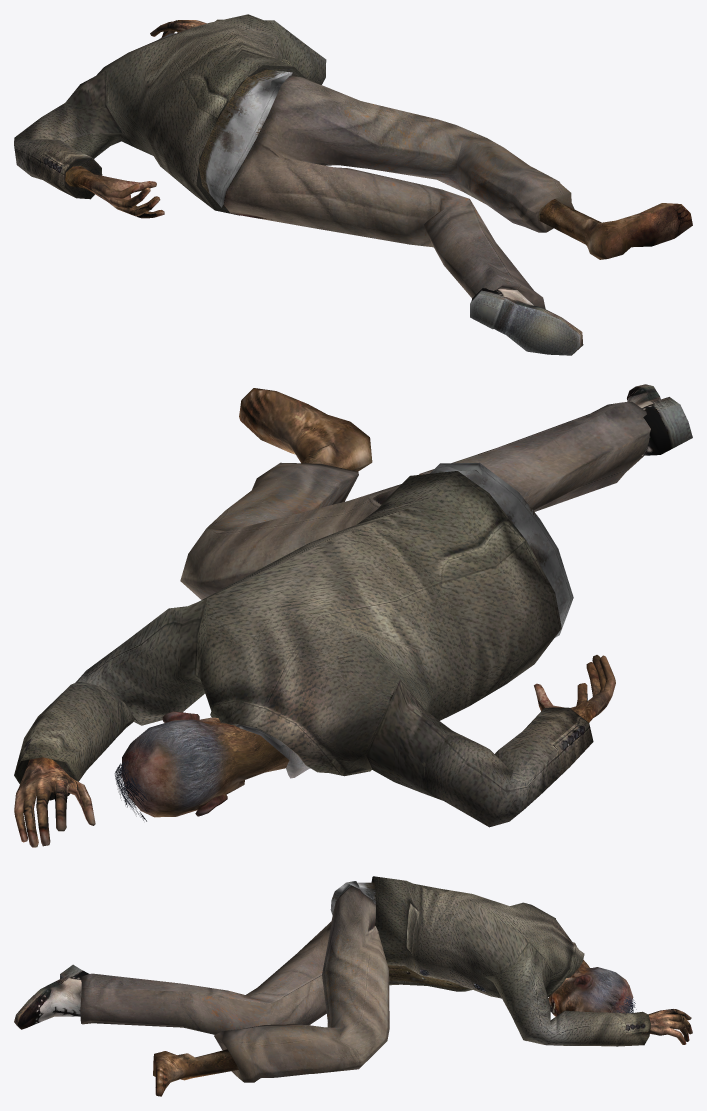
Rendered from Corpse_Pose_C.obj.
3 views of the same model, one above another, from view 1: azimuth 30°, elevation 25°; view 2: azimuth 150°, elevation 25°; view 3: azimuth 270°, elevation 25° (orthographic). The views are drawn at different scales.
Visible parts, largest first — view 1: Corpse_Pose_C; view 2: Corpse_Pose_C; view 3: Corpse_Pose_C.
Part boxes in pixels (x1,y1,x2,y2): Corpse_Pose_C: (14, 14, 692, 355); Corpse_Pose_C: (14, 384, 692, 847); Corpse_Pose_C: (14, 876, 692, 1096).
Size of the model in its own units: 103 by 36.3 by 171.
1 material, 1 textured.
